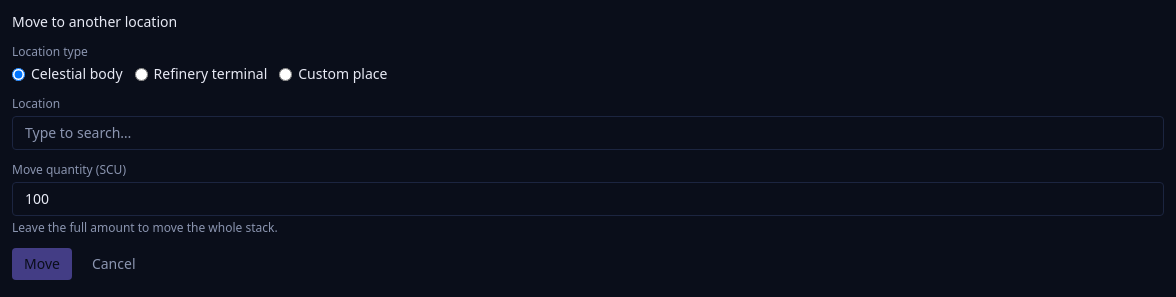
Test: WarehouseMoveForm › keeps submit disabled until a location is picked
Check: the button "Move" is disabled, box [12,248,72,280]
Type "day" into the dropdown labelled "Location".
click(588, 133); type("day")  # box [12,116,1164,150]
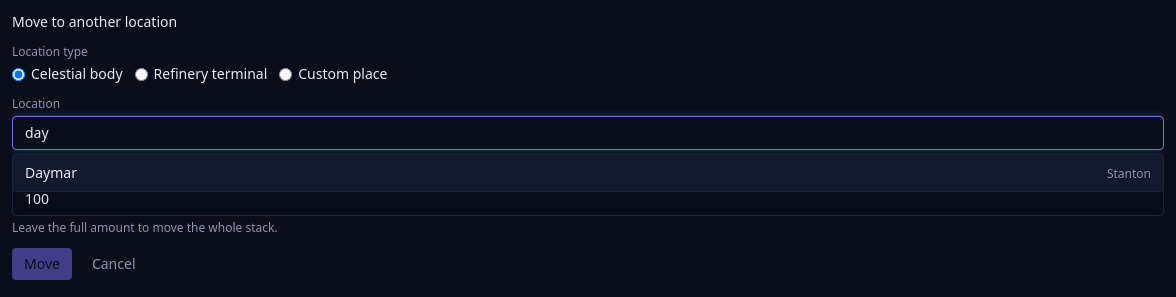
Click the option "Daymar Stanton".
click(51, 172)  # box [25,163,1151,182]
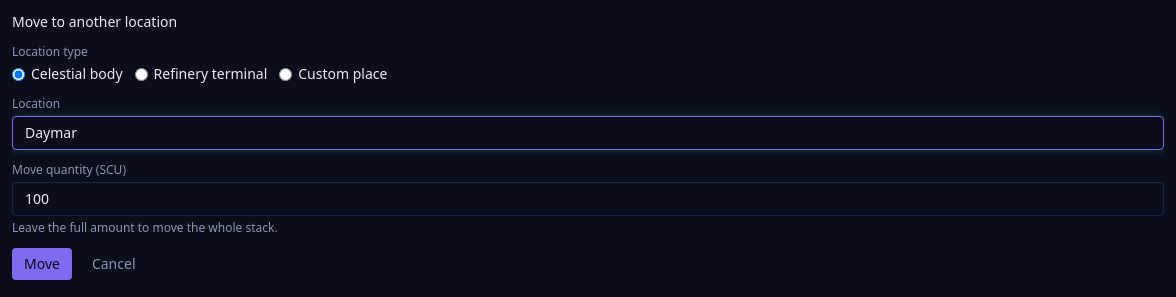
Check: the button "Move" is enabled, box [12,248,72,280]
